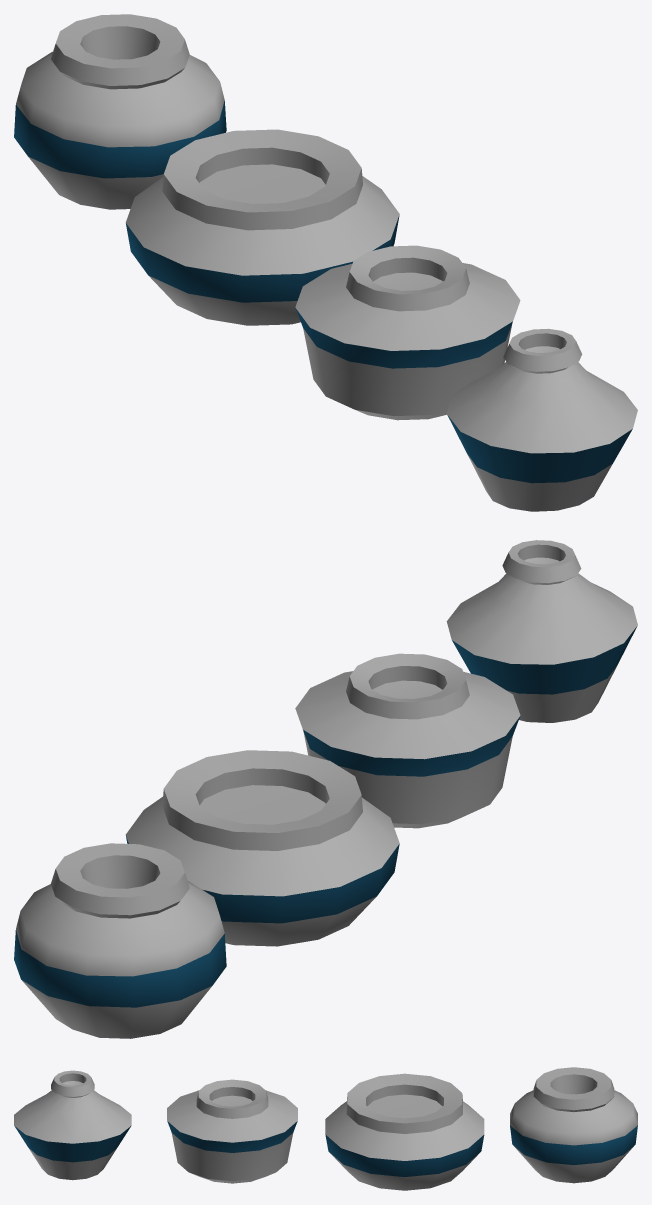
File: Pots.fbx
3 views of the same model, one above another, from view 1: azimuth 30°, elevation 25°; view 2: azimuth 150°, elevation 25°; view 3: azimuth 270°, elevation 25° (orthographic). The views are drawn at different scales.
Parts seen in each view (by area): view 1: Pot_03, Pot_04, Pot_02, Pot_01; view 2: Pot_03, Pot_04, Pot_02, Pot_01; view 3: Pot_03, Pot_04, Pot_02, Pot_01.
Boxes of the visible parts, x1,y1,x2,y2 form: Pot_03: [125, 129, 399, 325]; Pot_04: [14, 14, 226, 209]; Pot_02: [295, 245, 520, 420]; Pot_01: [446, 328, 637, 511]; Pot_03: [125, 750, 399, 946]; Pot_04: [14, 843, 226, 1038]; Pot_02: [295, 653, 520, 828]; Pot_01: [446, 540, 637, 722]; Pot_03: [325, 1073, 484, 1190]; Pot_04: [510, 1067, 637, 1183]; Pot_02: [167, 1079, 297, 1183]; Pot_01: [14, 1070, 131, 1180].
Size of the model in its own units: 62.57 by 39.19 by 239.
